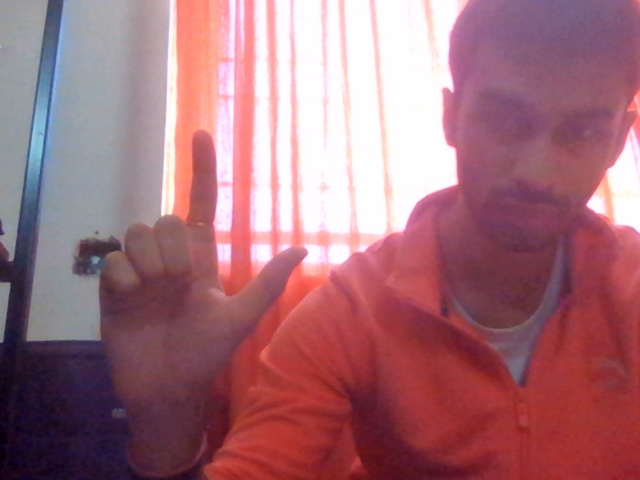L: (64, 138, 358, 442)
